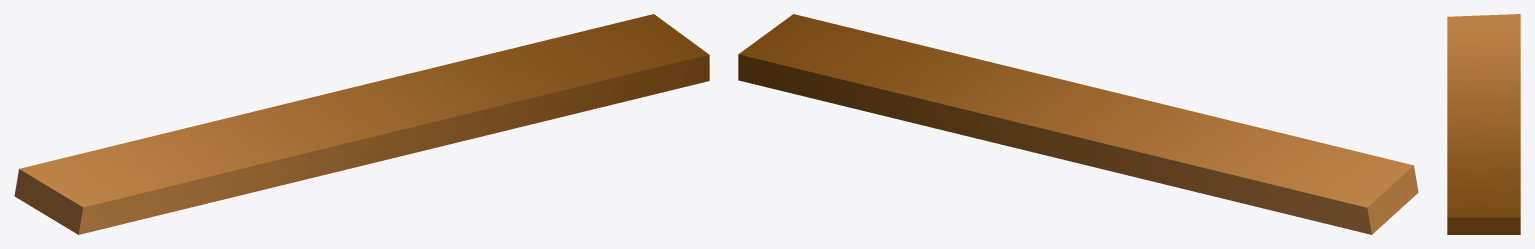
Rendered from Wood_Plank_A.fbx.
3 views of the same model, side by side, from view 1: azimuth 30°, elevation 25°; view 2: azimuth 150°, elevation 25°; view 3: azimuth 270°, elevation 25° (orthographic). The views are drawn at different scales.
Visible parts, largest first — view 1: Wood_Plank_A; view 2: Wood_Plank_A; view 3: Wood_Plank_A.
Part boxes in pixels (x1,y1,x2,y2): Wood_Plank_A: (14,14,709,234); Wood_Plank_A: (738,14,1418,234); Wood_Plank_A: (1447,14,1520,234).
Bounding box in the file's own units: 175 × 6.87 × 26.3.
